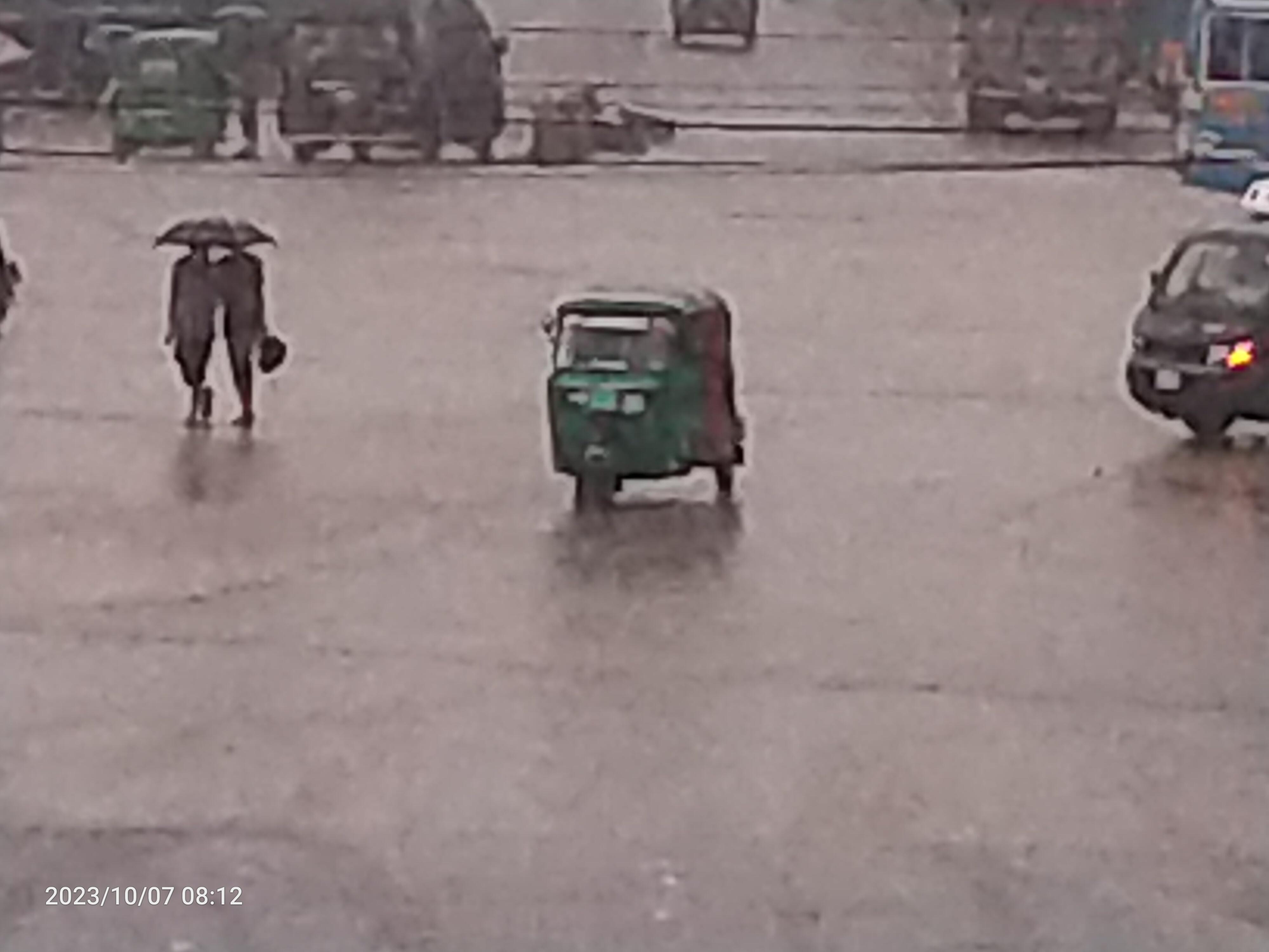Bus: (1156, 3, 1269, 216)
Car: (251, 0, 544, 193)
Truck: (1104, 192, 1269, 488)
